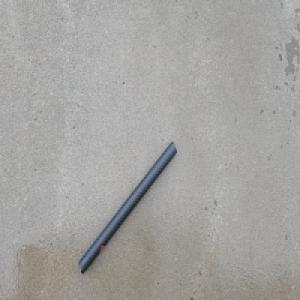LuggagePart: (78, 140, 177, 274)
